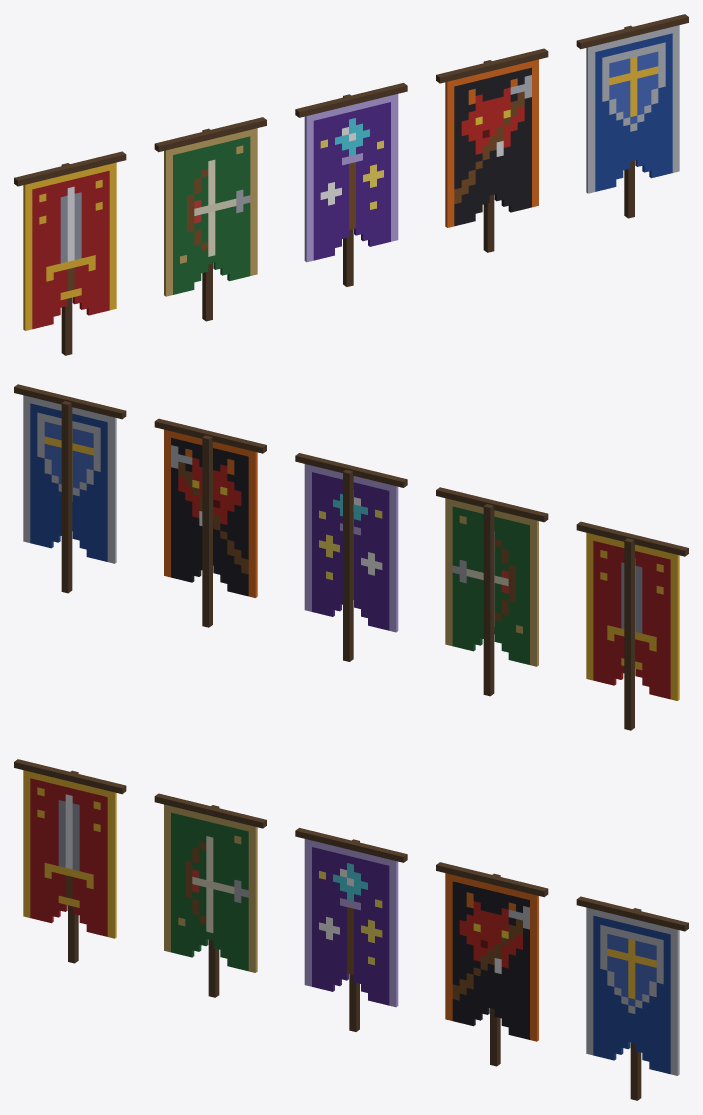
The model's file is clan_flags.glb.
3 views of the same model, one above another, from view 1: azimuth 30°, elevation 25°; view 2: azimuth 150°, elevation 25°; view 3: azimuth 330°, elevation 25° (orthographic).
Parts seen in each view (by area): view 1: Flag_magic, Flag_shield, Flag_bow, Flag_sword, Flag_dragon, Pole_sword, Pole_dragon, Pole_magic, Pole_shield, Pole_bow; view 2: Flag_magic, Flag_bow, Flag_dragon, Flag_shield, Flag_sword, Pole_bow, Pole_shield, Pole_dragon, Pole_sword, Pole_magic; view 3: Flag_magic, Flag_sword, Flag_dragon, Flag_shield, Flag_bow, Pole_shield, Pole_bow, Pole_magic, Pole_sword, Pole_dragon.
Part boxes in pixels (x1,y1,x2,y2): Flag_magic: [295, 83, 407, 262]; Flag_shield: [576, 14, 688, 193]; Flag_bow: [154, 117, 266, 296]; Flag_sword: [14, 151, 126, 330]; Flag_dragon: [436, 48, 548, 227]; Pole_sword: [61, 163, 72, 355]; Pole_dragon: [483, 60, 494, 252]; Pole_magic: [343, 94, 353, 286]; Pole_shield: [624, 25, 634, 218]; Pole_bow: [202, 128, 212, 321]; Flag_magic: [295, 453, 407, 632]; Flag_bow: [436, 487, 548, 666]; Flag_dragon: [154, 418, 266, 597]; Flag_shield: [14, 384, 126, 563]; Flag_sword: [576, 521, 688, 700]; Pole_bow: [483, 504, 494, 696]; Pole_shield: [61, 401, 72, 593]; Pole_dragon: [202, 435, 212, 627]; Pole_sword: [624, 538, 634, 730]; Pole_magic: [343, 469, 353, 661]; Flag_magic: [295, 828, 407, 1007]; Flag_sword: [14, 759, 126, 938]; Flag_dragon: [436, 862, 548, 1041]; Flag_shield: [576, 896, 688, 1075]; Flag_bow: [154, 793, 266, 972]; Pole_shield: [630, 908, 641, 1100]; Pole_bow: [208, 805, 219, 997]; Pole_magic: [349, 839, 359, 1031]; Pole_sword: [68, 770, 78, 963]; Pole_dragon: [490, 873, 500, 1066].
Size of the model in its own units: 23.85 by 6.45 by 0.44.
